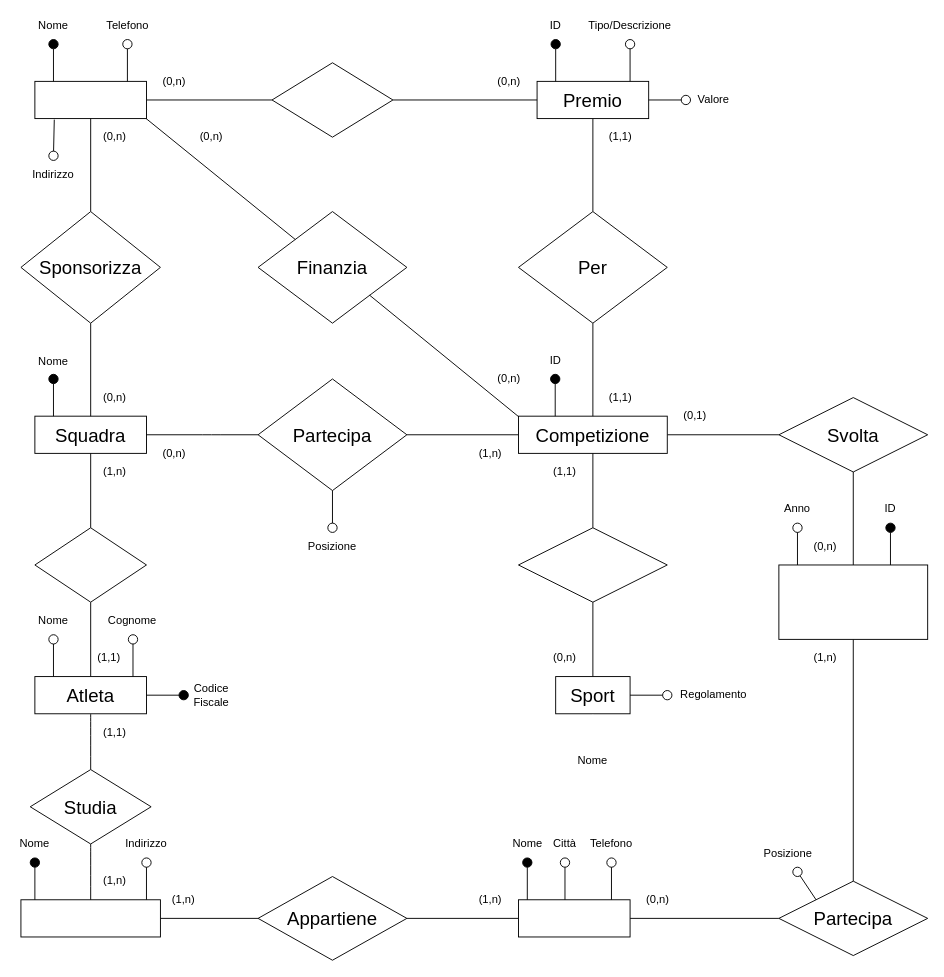
Some shapes in this 944 by 977 pixel diagram are drawn without their labels. The shapes that lost their labels are listed below. From the top down, each one's box as (x1, y1, x2, y2) in pixels, then its label:
(34, 80, 146, 119): Sponsor
(271, 62, 393, 137): Fornisce
(34, 527, 146, 602): Fa Parte
(518, 527, 667, 602): Tipologia
(778, 564, 928, 639): Olimpiade universitaria
(20, 899, 160, 937): Facoltà/Corso
(518, 899, 630, 937): Università
